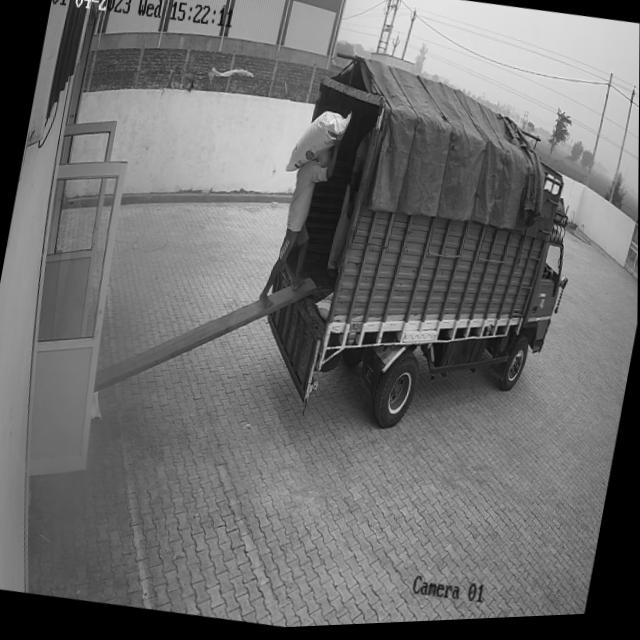sack: (285, 108, 352, 184)
